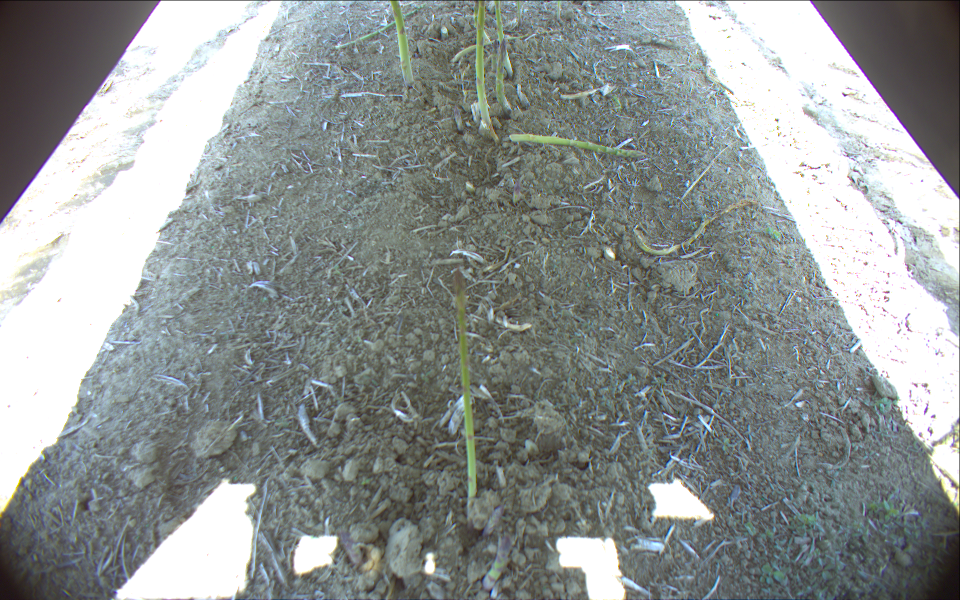aspa: (633, 198, 762, 256), (454, 269, 478, 506), (337, 1, 431, 48), (507, 132, 647, 158), (452, 30, 539, 64), (474, 1, 494, 134), (390, 1, 415, 84), (492, 1, 513, 76), (483, 534, 510, 592), (495, 38, 512, 110), (336, 529, 360, 565), (483, 505, 505, 539), (453, 106, 465, 133), (491, 39, 499, 75), (512, 180, 522, 206), (514, 1, 524, 23), (554, 1, 562, 23)
